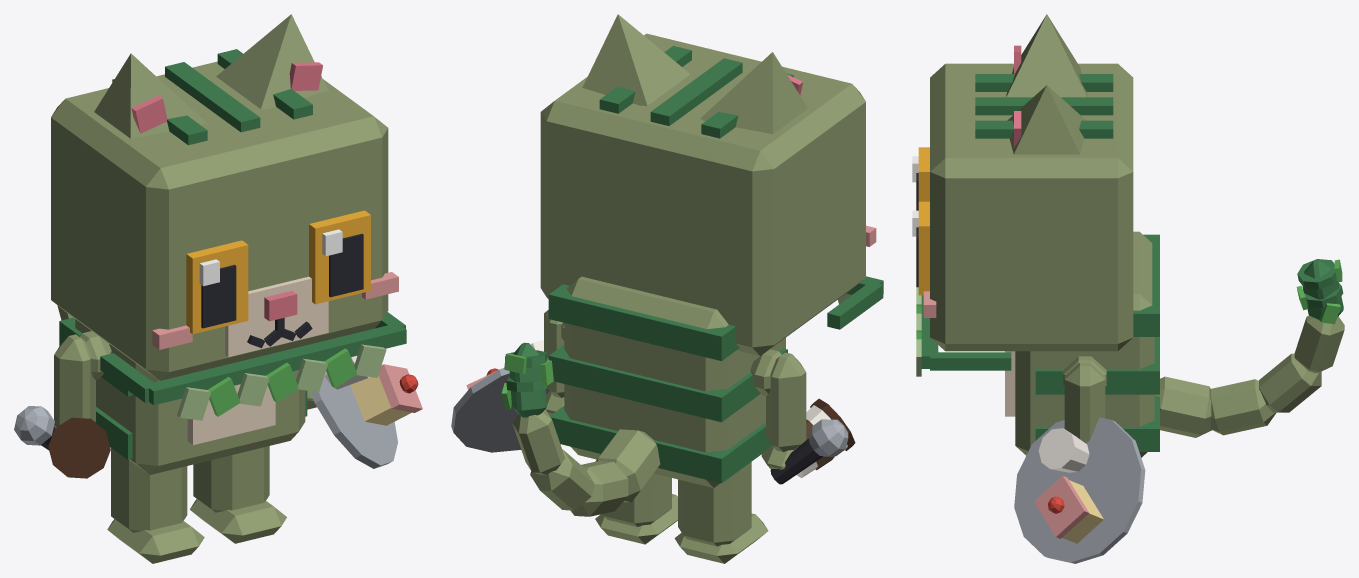
The model's file is CatCafe_Cat_Ivy_Work.fbx.
The picture shows the model from 3 angles, left to right: view 1: azimuth 30°, elevation 25°; view 2: azimuth 150°, elevation 25°; view 3: azimuth 270°, elevation 25°; orthographic projection. The views are drawn at different scales.
Visible parts, largest first — view 1: CatCafe_Cat_Ivy_Work_Head, CatCafe_Cat_Ivy_Work_Body, CatCafe_Cat_Ivy_Work_Prop, CatCafe_Cat_Ivy_Work_LegB2, CatCafe_Cat_Ivy_Work_Held_Waiter, CatCafe_Cat_Ivy_Work_LegB1, CatCafe_Cat_Ivy_Work_EarL, CatCafe_Cat_Ivy_Work_Eye2, CatCafe_Cat_Ivy_Work_Eye1, CatCafe_Cat_Ivy_Work_EarR, CatCafe_Cat_Ivy_Work_LegF2, CatCafe_Cat_Ivy_Work_Held_Barista (+1 smaller); view 2: CatCafe_Cat_Ivy_Work_Head, CatCafe_Cat_Ivy_Work_Body, CatCafe_Cat_Ivy_Work_Tail, CatCafe_Cat_Ivy_Work_LegB2, CatCafe_Cat_Ivy_Work_EarL, CatCafe_Cat_Ivy_Work_EarR, CatCafe_Cat_Ivy_Work_Held_Waiter, CatCafe_Cat_Ivy_Work_LegF2, CatCafe_Cat_Ivy_Work_LegB1, CatCafe_Cat_Ivy_Work_Held_Entertainer, CatCafe_Cat_Ivy_Work_Prop, CatCafe_Cat_Ivy_Work_Tail_Vine (+2 smaller); view 3: CatCafe_Cat_Ivy_Work_Head, CatCafe_Cat_Ivy_Work_Held_Waiter, CatCafe_Cat_Ivy_Work_Body, CatCafe_Cat_Ivy_Work_Tail, CatCafe_Cat_Ivy_Work_EarR, CatCafe_Cat_Ivy_Work_EarL, CatCafe_Cat_Ivy_Work_LegF1, CatCafe_Cat_Ivy_Work_Prop, CatCafe_Cat_Ivy_Work_Tail_Vine, CatCafe_Cat_Ivy_Work_Eye1, CatCafe_Cat_Ivy_Work_Eye2.
Part boxes in pixels (<box>): CatCafe_Cat_Ivy_Work_Head: <box>51,49,398,380</box>; CatCafe_Cat_Ivy_Work_Body: <box>59,317,307,474</box>; CatCafe_Cat_Ivy_Work_Prop: <box>100,312,406,420</box>; CatCafe_Cat_Ivy_Work_LegB2: <box>107,448,204,563</box>; CatCafe_Cat_Ivy_Work_Held_Waiter: <box>310,356,422,468</box>; CatCafe_Cat_Ivy_Work_LegB1: <box>190,446,286,543</box>; CatCafe_Cat_Ivy_Work_EarL: <box>216,14,328,109</box>; CatCafe_Cat_Ivy_Work_Eye2: <box>186,240,248,334</box>; CatCafe_Cat_Ivy_Work_Eye1: <box>309,210,370,304</box>; CatCafe_Cat_Ivy_Work_EarR: <box>94,53,205,138</box>; CatCafe_Cat_Ivy_Work_LegF2: <box>54,334,95,427</box>; CatCafe_Cat_Ivy_Work_Held_Barista: <box>48,417,110,478</box>; CatCafe_Cat_Ivy_Work_Head: <box>540,33,876,355</box>; CatCafe_Cat_Ivy_Work_Body: <box>548,276,787,487</box>; CatCafe_Cat_Ivy_Work_Tail: <box>509,342,660,516</box>; CatCafe_Cat_Ivy_Work_LegB2: <box>674,462,768,563</box>; CatCafe_Cat_Ivy_Work_EarL: <box>582,14,690,105</box>; CatCafe_Cat_Ivy_Work_EarR: <box>700,52,807,134</box>; CatCafe_Cat_Ivy_Work_Held_Waiter: <box>451,340,549,452</box>; CatCafe_Cat_Ivy_Work_LegF2: <box>761,352,806,469</box>; CatCafe_Cat_Ivy_Work_LegB1: <box>595,473,677,544</box>; CatCafe_Cat_Ivy_Work_Held_Entertainer: <box>770,419,848,484</box>; CatCafe_Cat_Ivy_Work_Prop: <box>827,276,883,329</box>; CatCafe_Cat_Ivy_Work_Tail_Vine: <box>501,350,553,409</box>; CatCafe_Cat_Ivy_Work_Head: <box>923,63,1133,351</box>; CatCafe_Cat_Ivy_Work_Held_Waiter: <box>1014,417,1145,563</box>; CatCafe_Cat_Ivy_Work_Body: <box>1005,231,1159,457</box>; CatCafe_Cat_Ivy_Work_Tail: <box>1154,260,1344,437</box>; CatCafe_Cat_Ivy_Work_EarR: <box>1006,14,1087,97</box>; CatCafe_Cat_Ivy_Work_EarL: <box>1007,85,1085,154</box>; CatCafe_Cat_Ivy_Work_LegF1: <box>1064,362,1105,443</box>; CatCafe_Cat_Ivy_Work_Prop: <box>916,287,1011,376</box>; CatCafe_Cat_Ivy_Work_Tail_Vine: <box>1296,259,1343,324</box>; CatCafe_Cat_Ivy_Work_Eye1: <box>912,201,929,295</box>; CatCafe_Cat_Ivy_Work_Eye2: <box>912,147,929,210</box>.
Bounding box in the file's own units: 1.53 × 1.93 × 1.62.
1 material, 1 textured.
